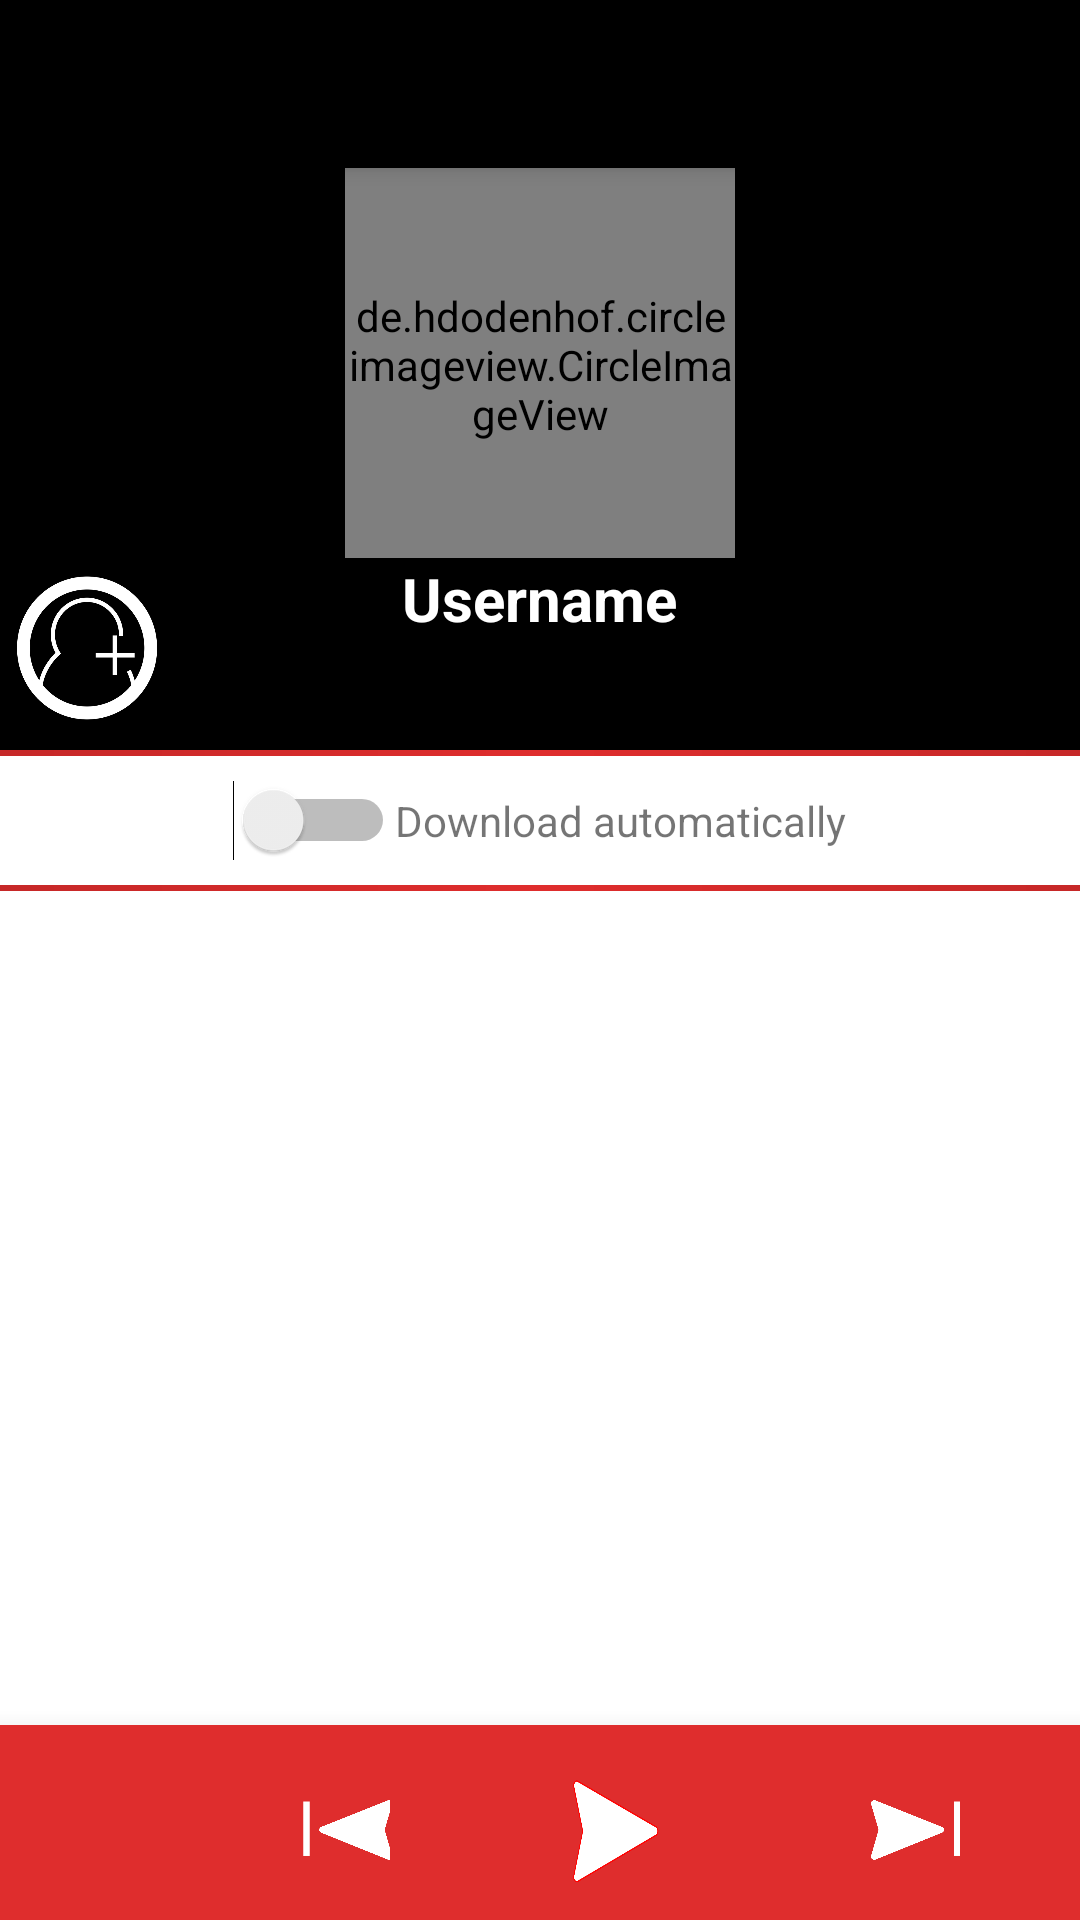

Icon click points for this 1080px×1920px phone screenshot, format (x=x, y=y):
subscribe: (x=87, y=648)
